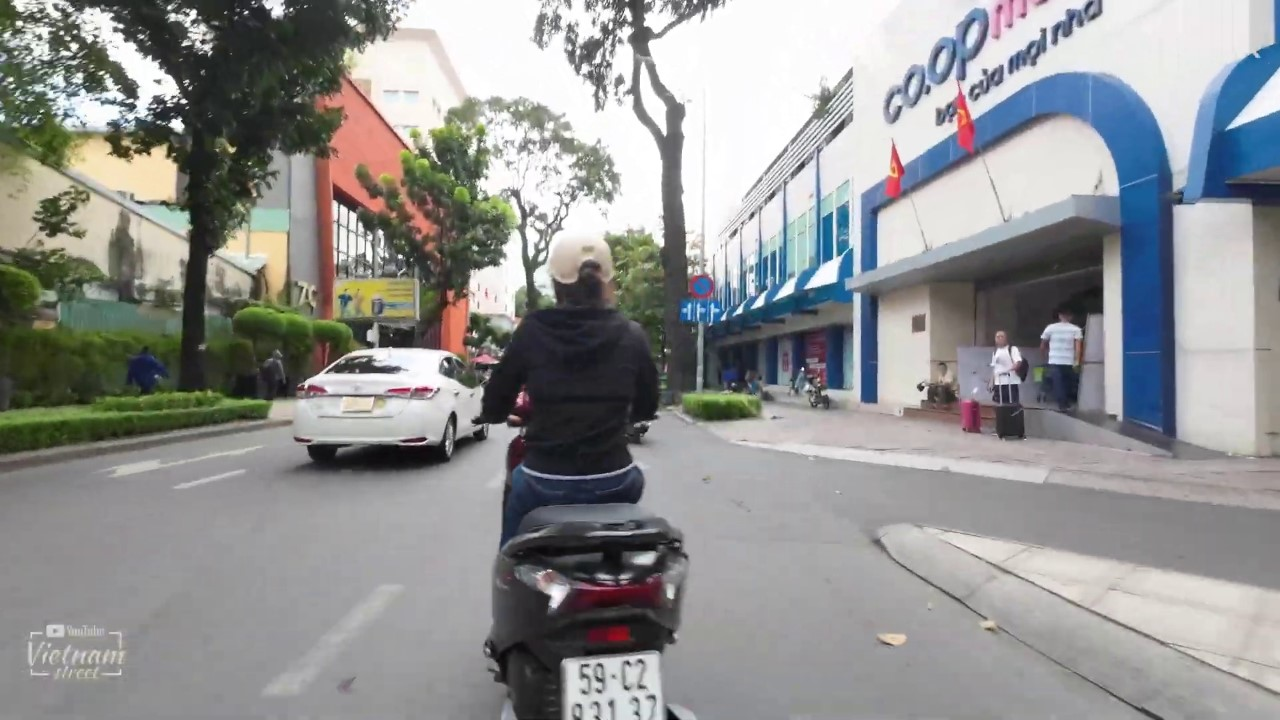cam_do_xe: (690, 275, 715, 299)
